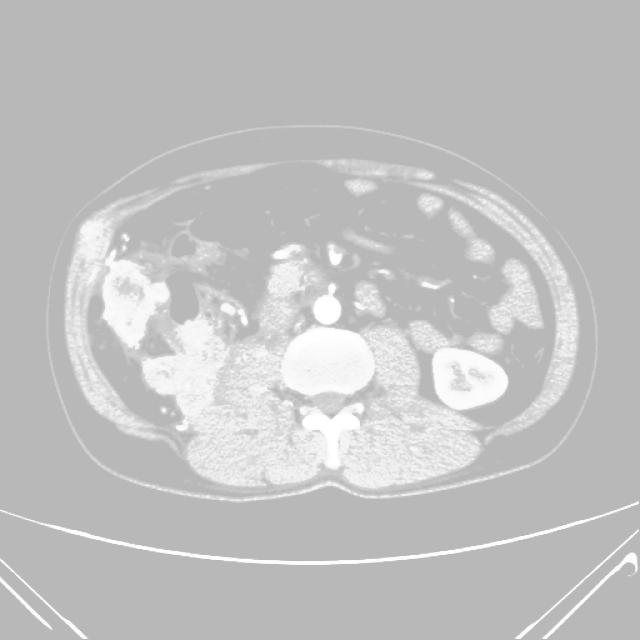TUMOR: (155, 208, 517, 439)
